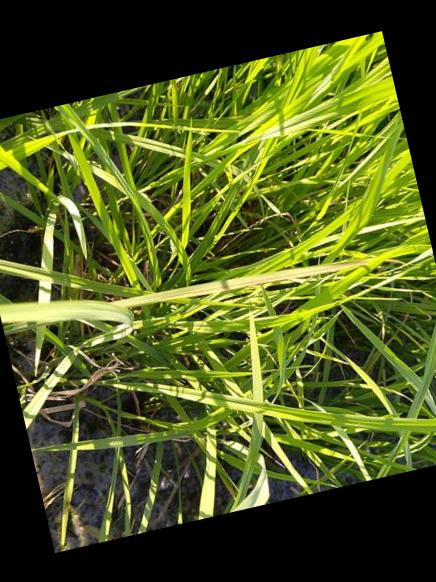Leaf Streak: (110, 253, 373, 306)
